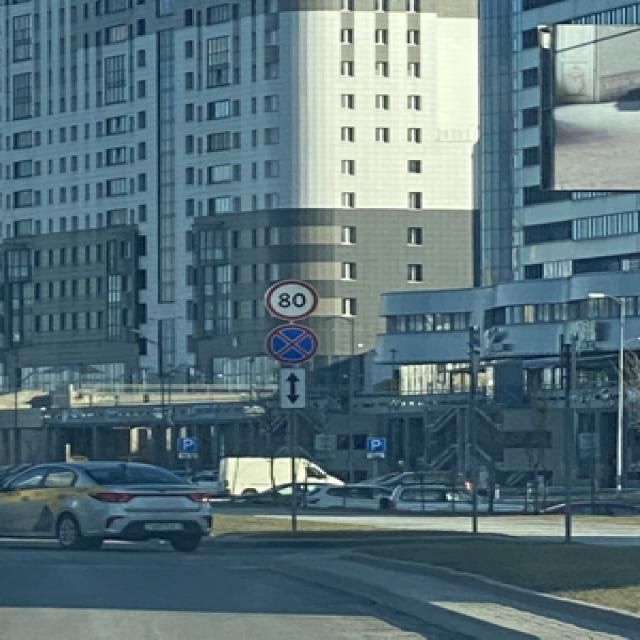speedlimit: (262, 278, 316, 317)
